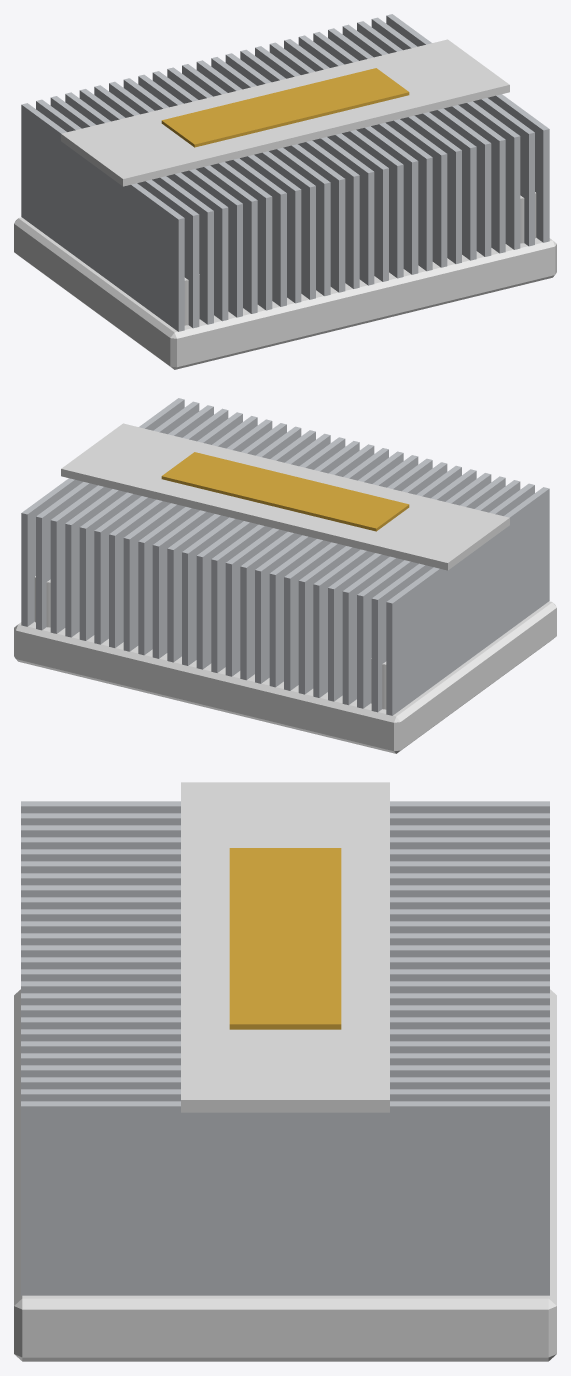
File: hw_cool_vapor.glb
The picture shows the model from 3 angles, top to bottom: view 1: azimuth 30°, elevation 25°; view 2: azimuth 150°, elevation 25°; view 3: azimuth 270°, elevation 25°; orthographic projection. The views are drawn at different scales.
Visible parts, largest first — view 1: Body; view 2: Body; view 3: Body.
Boxes of the visible parts, x1,y1,x2,y2 form: Body: (14,14,556,369); Body: (14,398,556,753); Body: (14,782,556,1361).
Bounding box in the file's own units: 0.108 × 0.0428 × 0.078.
